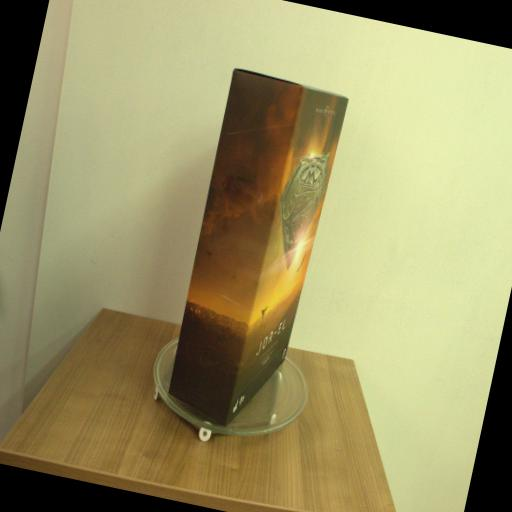superman: (161, 66, 352, 434)
